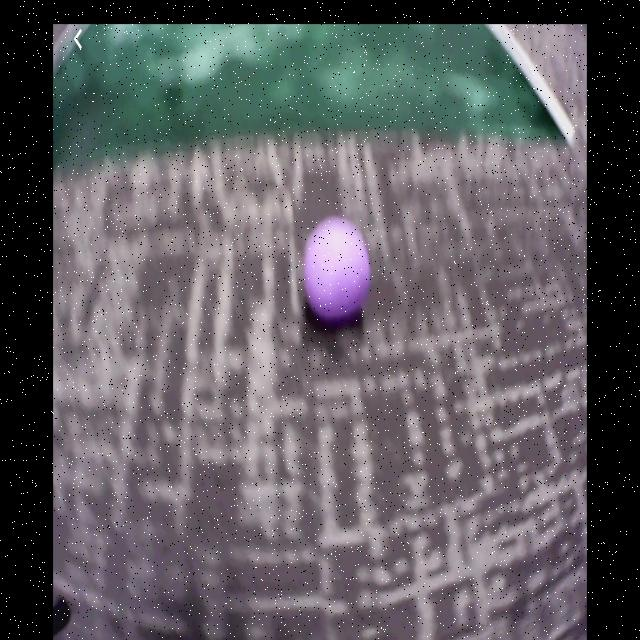ball: (305, 218, 372, 316)
